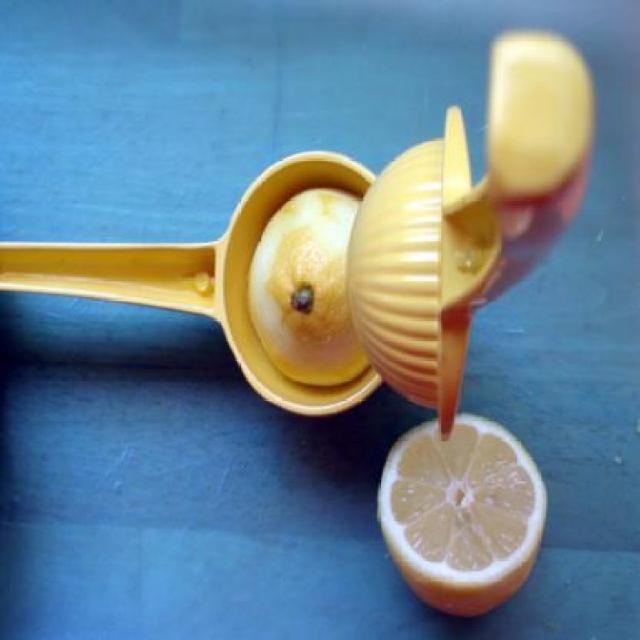Lemon: (374, 410, 550, 619), (248, 188, 370, 388)
